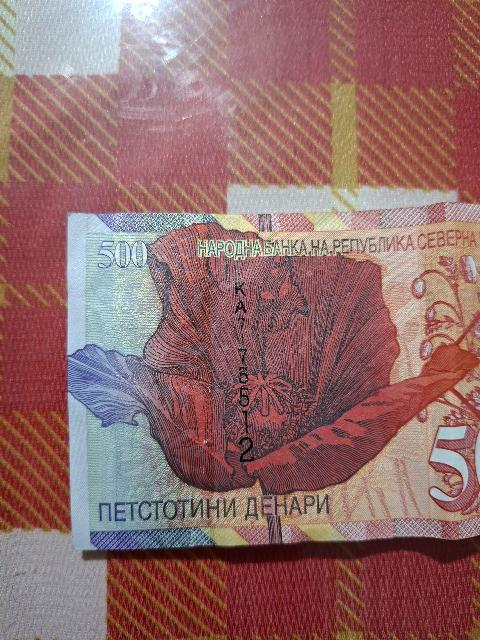note: (68, 214, 479, 549)
